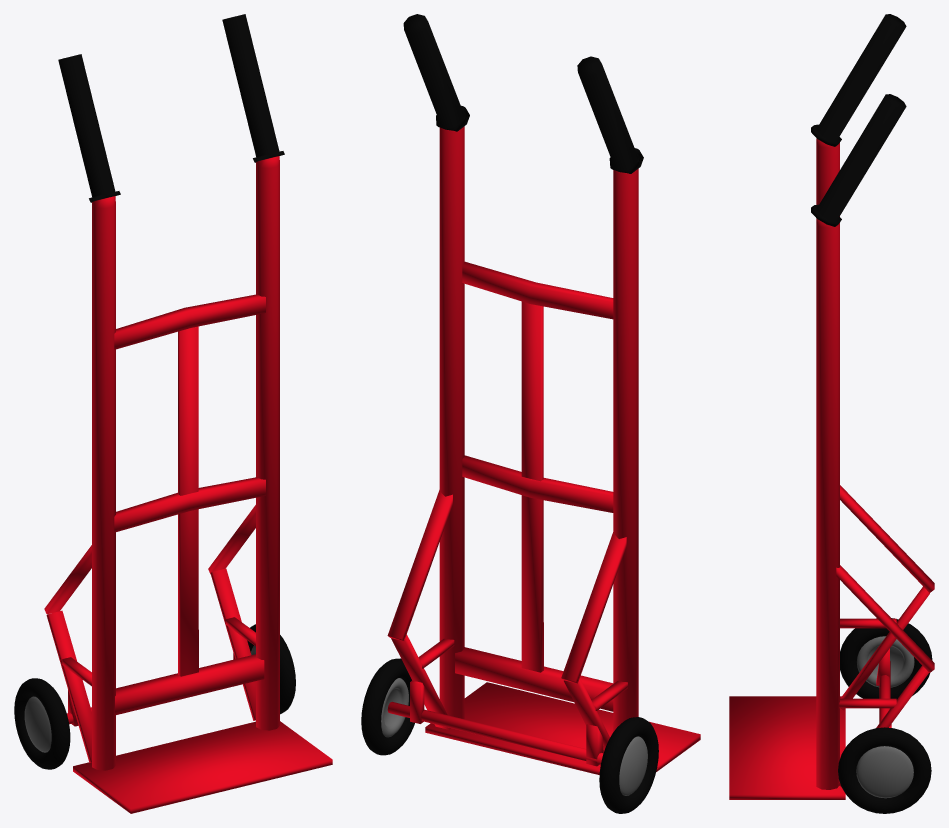
The model's file is HANDTRUCK.fbx.
3 renders of one model, left to right at view 1: azimuth 30°, elevation 25°; view 2: azimuth 150°, elevation 25°; view 3: azimuth 270°, elevation 25°, orthographic. The views are drawn at different scales.
Parts seen in each view (by area): view 1: Hand_Hold_2, Hand_hold_1, Lifter, Support_Beam_Holders, Wheel_Support, Support_beam_1, Support_Beam_2, Wheel_Outside_2, Wheel_beam_extend, Wheel_Beam_extend, Wheel_Inside_1, Wheel_beam (+2 smaller); view 2: Hand_hold_1, Hand_Hold_2, Lifter, Support_Beam_Holders, Wheel_Support, Support_beam_1, Support_Beam_2, Wheel_Outside_2, Wheel_beam, Wheel_Beam, Wheel_outside, Wheel_attach (+4 smaller); view 3: Hand_hold_1, Lifter, Hand_Hold_2, Wheel_outside, Wheel_Inside, Wheel_Outside_2, Wheel_Beam, Wheel_beam, Wheel_Inside_1, Wheel_beam_extend, Wheel_Beam_extend, Support (+2 smaller).
Boxes of the visible parts, x1,y1,x2,y2 form: Hand_Hold_2: (58,54,120,770); Hand_hold_1: (222,14,284,730); Lifter: (73,721,332,813); Support_Beam_Holders: (178,326,198,676); Wheel_Support: (115,654,264,715); Support_beam_1: (114,294,265,349); Support_Beam_2: (114,477,265,532); Wheel_Outside_2: (14,678,70,769); Wheel_beam_extend: (46,610,91,762); Wheel_Beam_extend: (210,568,255,720); Wheel_Inside_1: (24,696,51,752); Wheel_beam: (44,545,91,614); Hand_hold_1: (403,14,469,719); Hand_Hold_2: (577,56,643,731); Lifter: (425,682,700,774); Support_Beam_Holders: (521,301,543,672); Wheel_Support: (455,647,613,711); Support_beam_1: (462,261,613,319); Support_Beam_2: (462,455,613,512); Wheel_Outside_2: (599,717,658,813); Wheel_beam: (561,532,626,683); Wheel_Beam: (387,490,452,640); Wheel_outside: (361,658,414,755); Wheel_attach: (387,701,603,764); Hand_hold_1: (811,94,906,789); Lifter: (729,696,845,799); Hand_Hold_2: (811,14,906,216); Wheel_outside: (838,727,931,813); Wheel_Inside: (856,746,913,798); Wheel_Outside_2: (840,618,932,699); Wheel_Beam: (836,565,934,672); Wheel_beam: (840,485,934,592); Wheel_Inside_1: (857,636,914,687); Wheel_beam_extend: (840,586,929,710); Wheel_Beam_extend: (838,665,928,786); Support: (839,698,896,708).
Size of the model in its own units: 7.45 by 20.71 by 5.48.
